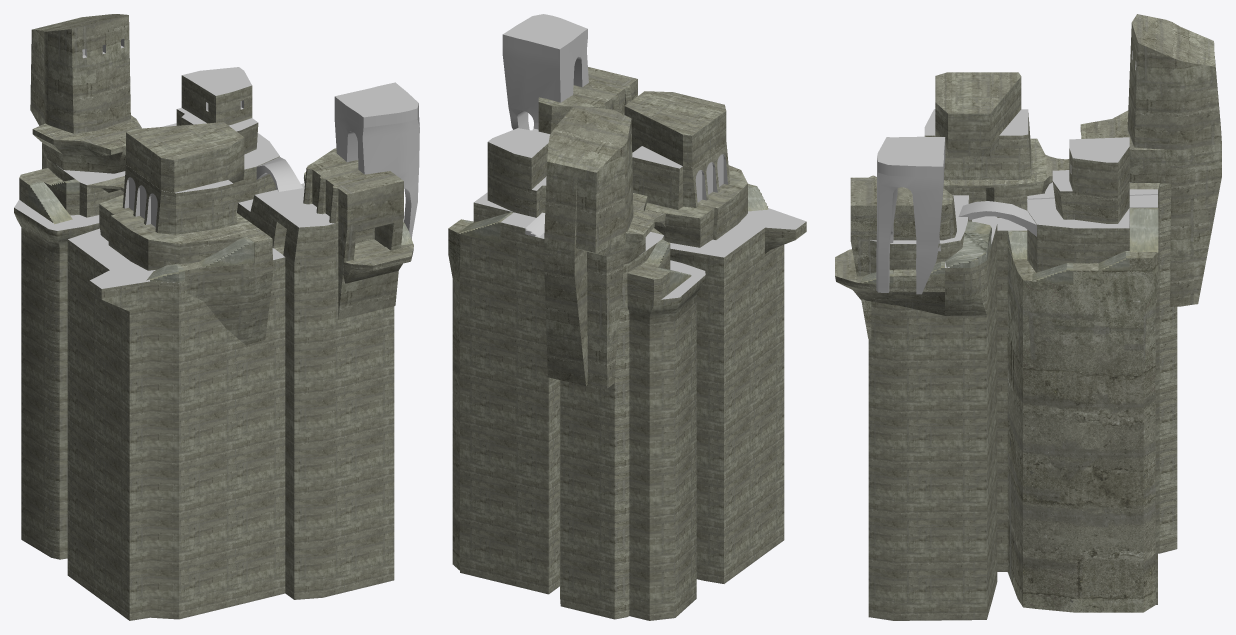
File: SM_Gunteberg_00.fbx
3 renders of one model, left to right at view 1: azimuth 30°, elevation 25°; view 2: azimuth 150°, elevation 25°; view 3: azimuth 270°, elevation 25°, orthographic. The views are drawn at different scales.
Parts seen in each view (by area): view 1: Cube_00, Cube_10, Cube_10.001; view 2: Cube_00, Cube_10.001, Cube_10; view 3: Cube_00, Cube_10.001, Cube_10.
Boxes of the visible parts, x1,y1,x2,y2 form: Cube_00: [14, 14, 419, 620]; Cube_10: [28, 172, 404, 282]; Cube_10.001: [30, 179, 412, 280]; Cube_00: [448, 14, 806, 620]; Cube_10.001: [457, 186, 768, 272]; Cube_10: [459, 185, 767, 292]; Cube_00: [835, 14, 1221, 620]; Cube_10.001: [860, 194, 1158, 282]; Cube_10: [863, 208, 1158, 285].
Bounding box in the file's own units: 5106 × 8080 × 5549.
